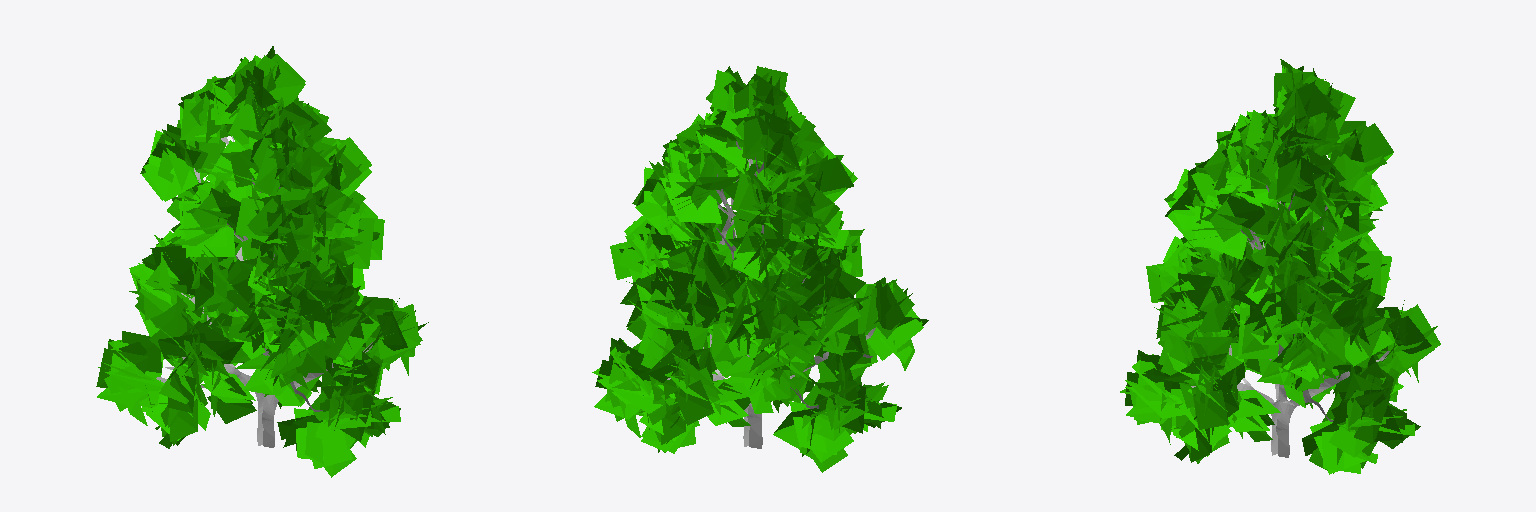
Rendered from LowPolyTrees.obj.
3 renders of one model, left to right at view 1: azimuth 30°, elevation 25°; view 2: azimuth 150°, elevation 25°; view 3: azimuth 270°, elevation 25°, orthographic.
Parts seen in each view (by area): view 1: Leaves.004, Bark.004; view 2: Leaves.004, Bark.004; view 3: Leaves.004, Bark.004.
Part boxes in pixels (x1,y1,x2,y2): Leaves.004: (96, 46, 428, 477); Bark.004: (156, 136, 372, 447); Leaves.004: (592, 66, 928, 472); Bark.004: (667, 141, 875, 448); Leaves.004: (1120, 59, 1440, 474); Bark.004: (1191, 185, 1389, 457).
Size of the model in its own units: 2.4 by 3.09 by 2.34.